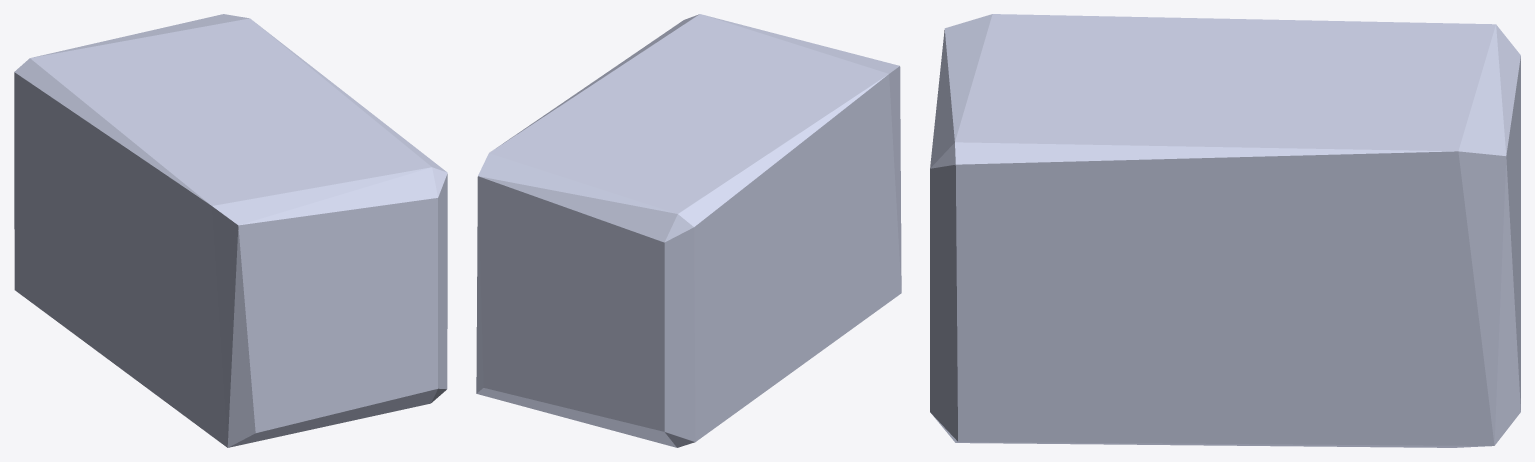
File: Snow_Brick_FBX.fbx
3 renders of one model, left to right at view 1: azimuth 30°, elevation 25°; view 2: azimuth 150°, elevation 25°; view 3: azimuth 270°, elevation 25°, orthographic. The views are drawn at different scales.
Parts seen in each view (by area): view 1: Fort Part D; view 2: Fort Part D; view 3: Fort Part D.
Boxes of the visible parts, left/top/right/bottom form: Fort Part D: left=14, top=14, right=447, bottom=447; Fort Part D: left=476, top=14, right=901, bottom=447; Fort Part D: left=930, top=14, right=1520, bottom=447.
Bounding box in the file's own units: 2918 × 3027 × 5254.
